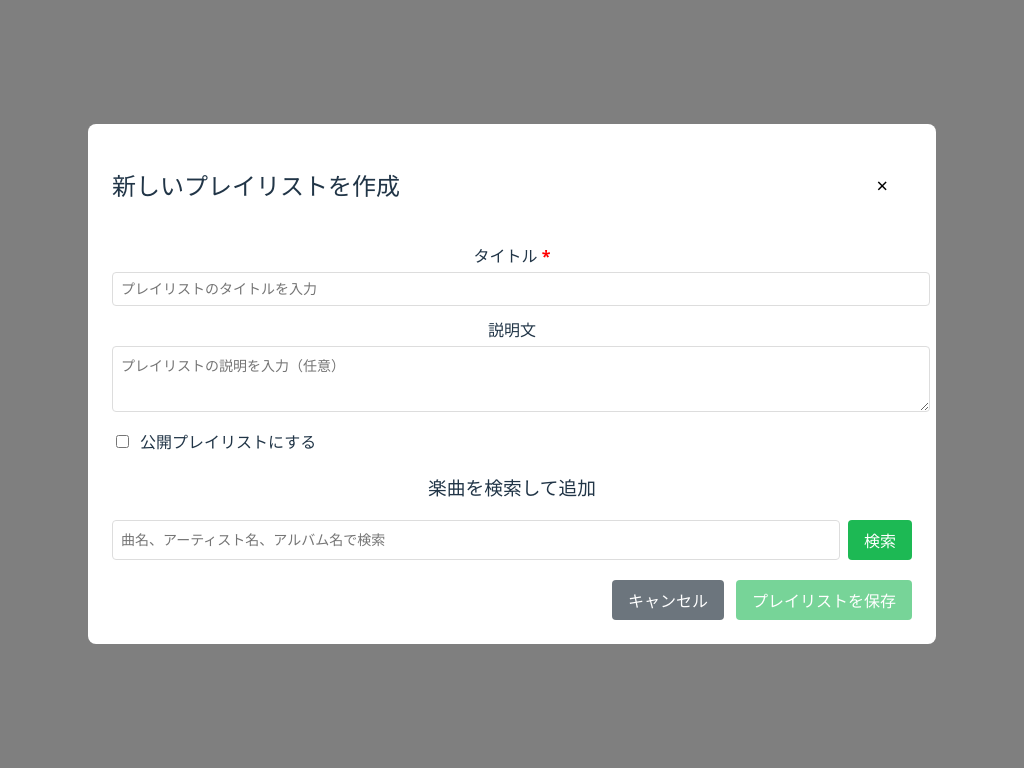
Test case: CreatePlaylistModal › 楽曲の検索 › 検索ボタンで検索し、曲名・アーティスト・アルバムを結果に表示する
This screenshot has width=1024, height=768.
Type "ドライブ" into the field with placeholder "曲名、アーティスト名、アルバム名で検索" at {"x": 476, "y": 540}, box [112,520,840,560]
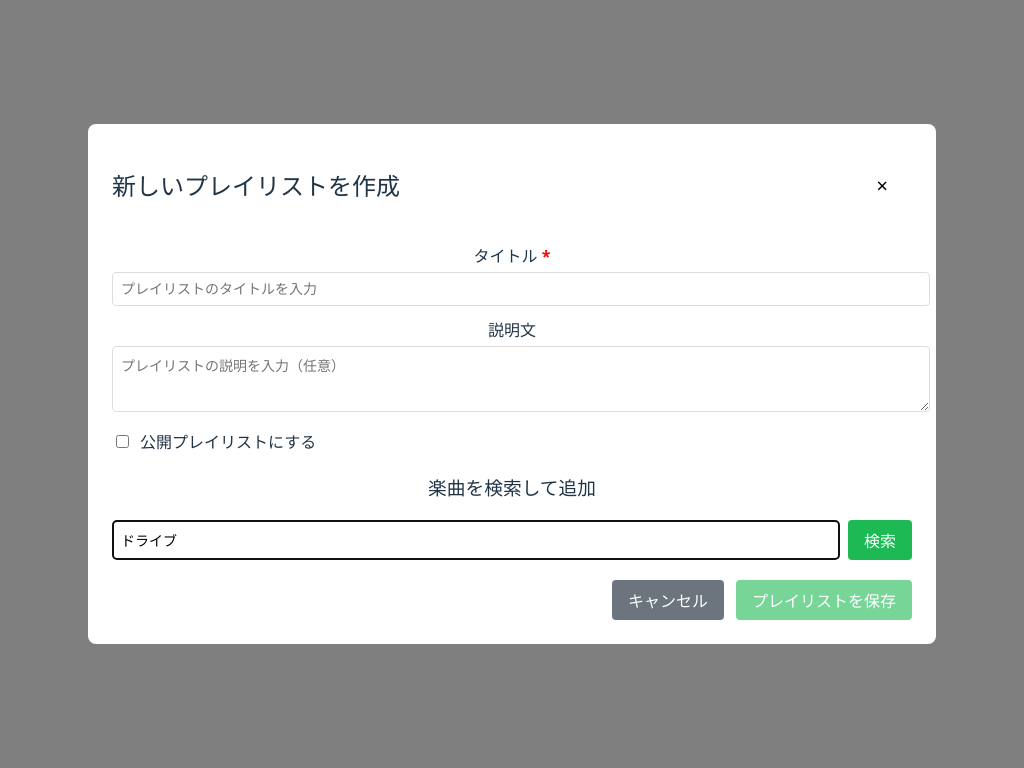
Click the button "検索" at {"x": 880, "y": 540}, box [848,520,912,560]
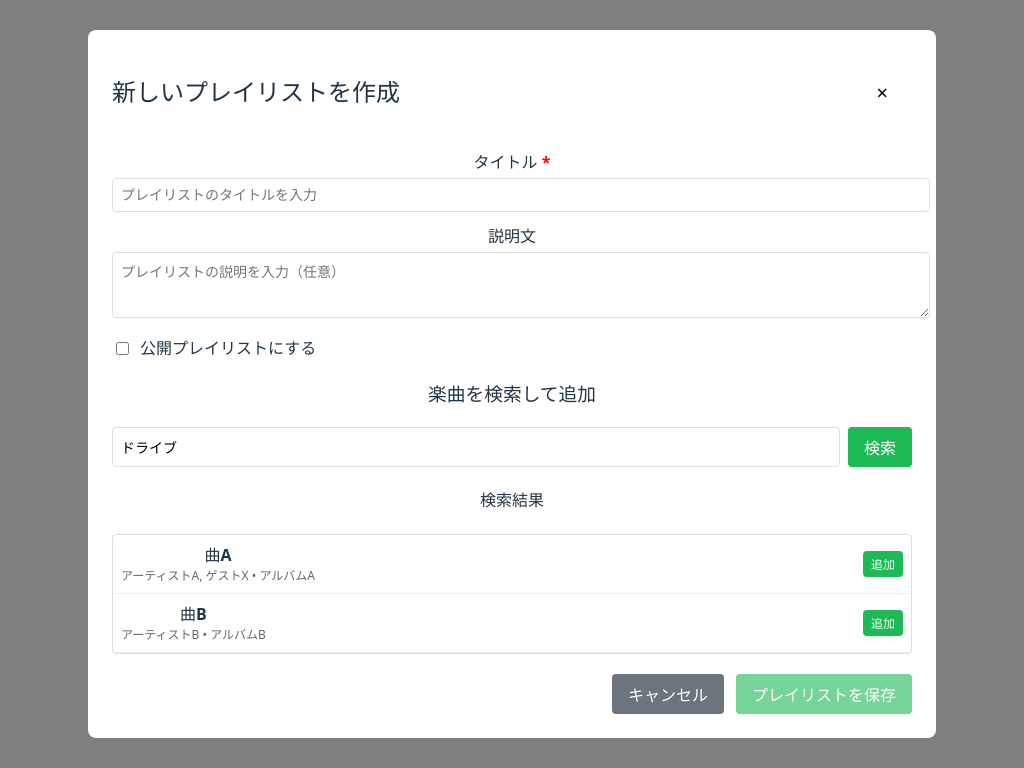
Expected: the heading "検索結果" is shown, [480,489,544,511]
Expected: the text "曲A" is shown, [204,544,231,566]
Expected: the text "アーティストA, ゲストX • アルバムA" is shown, [121,567,315,585]
